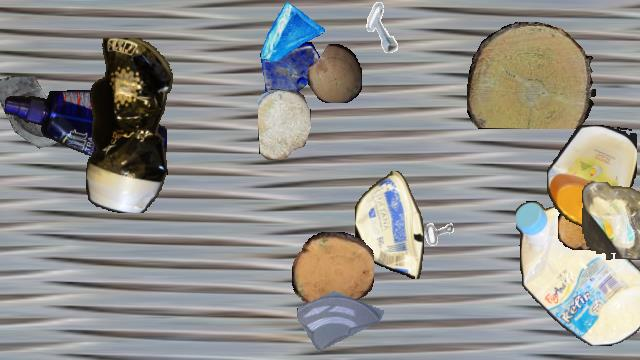glass: (297, 273, 383, 359), (0, 76, 83, 162), (258, 42, 324, 108), (259, 1, 325, 67)
metal: (405, 193, 463, 251), (358, 1, 410, 53)
plastic: (516, 200, 640, 346), (86, 38, 174, 212), (5, 90, 167, 172), (547, 125, 637, 227), (355, 171, 423, 279), (582, 182, 640, 260)
wood: (467, 22, 595, 128), (292, 232, 374, 310), (258, 89, 310, 159), (308, 44, 362, 102), (558, 204, 602, 250)
